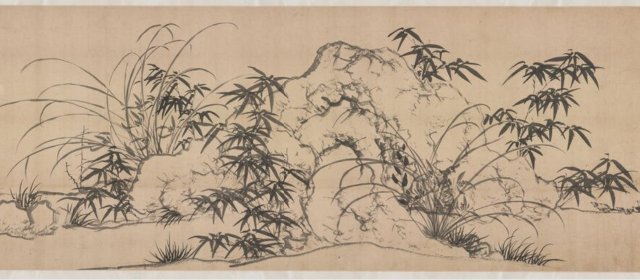bamboo: (506, 49, 630, 212), (201, 76, 304, 254), (66, 138, 136, 231), (391, 27, 482, 85), (148, 63, 205, 143)
hill: (147, 45, 563, 257)
